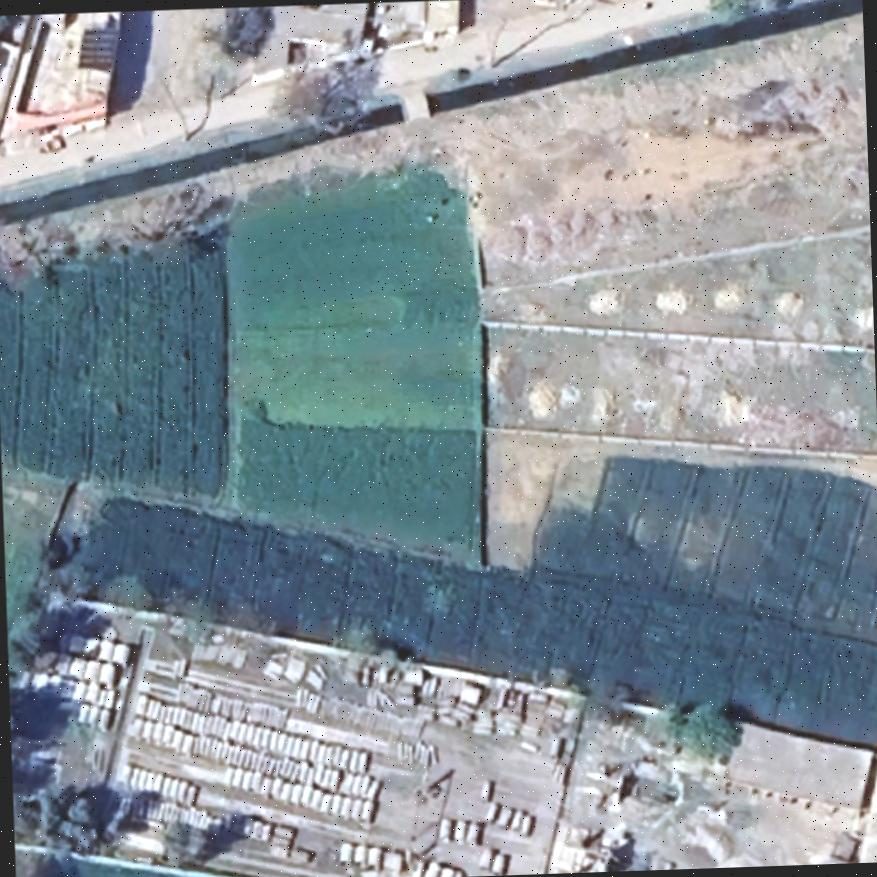Solarpanel: (72, 22, 124, 76)
